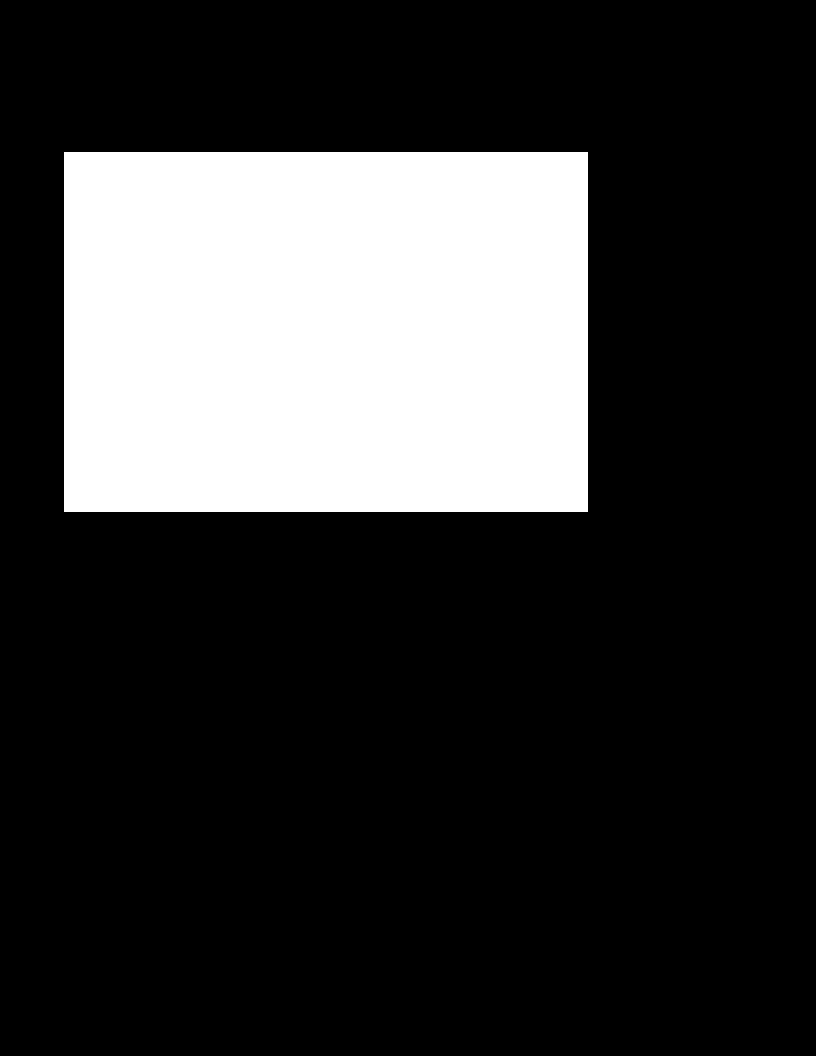table: (64, 152, 587, 511)
